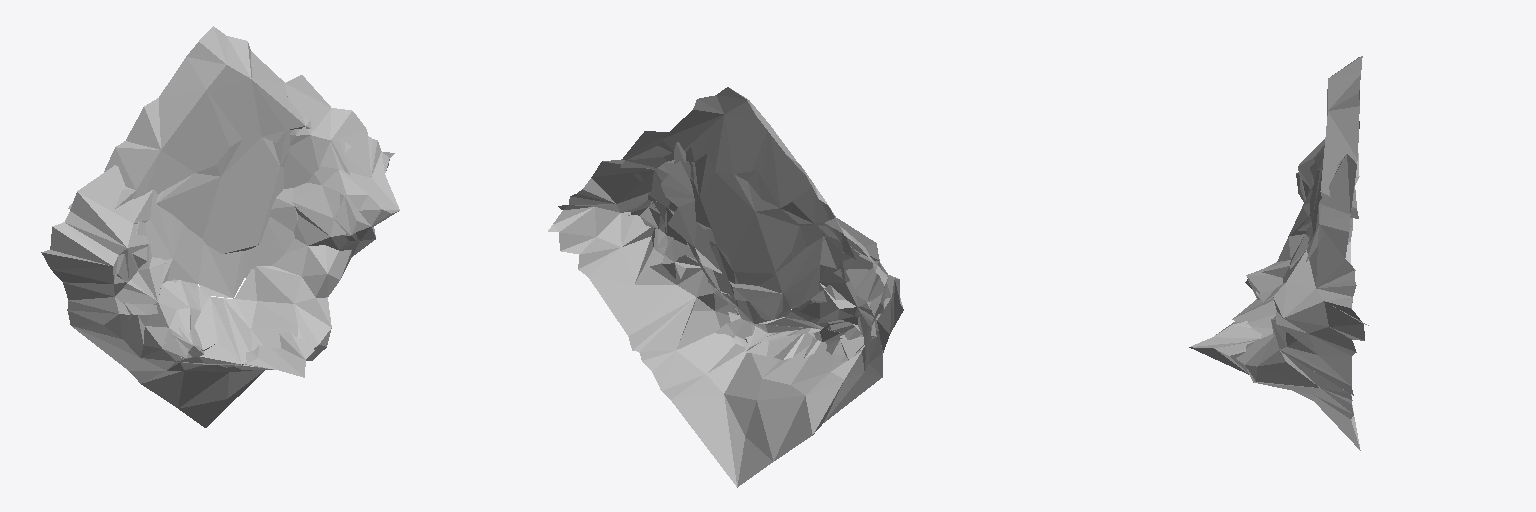
The model's file is OBJ_island.obj.
3 renders of one model, left to right at view 1: azimuth 30°, elevation 25°; view 2: azimuth 150°, elevation 25°; view 3: azimuth 270°, elevation 25°, orthographic.
Visible parts, largest first — view 1: Land_1; view 2: Land_1; view 3: Land_1.
Boxes of the visible parts, x1,y1,x2,y2 form: Land_1: [41, 26, 399, 427]; Land_1: [548, 87, 903, 487]; Land_1: [1189, 56, 1368, 450].
Bounding box in the file's own units: 34.7 × 37.79 × 15.64.